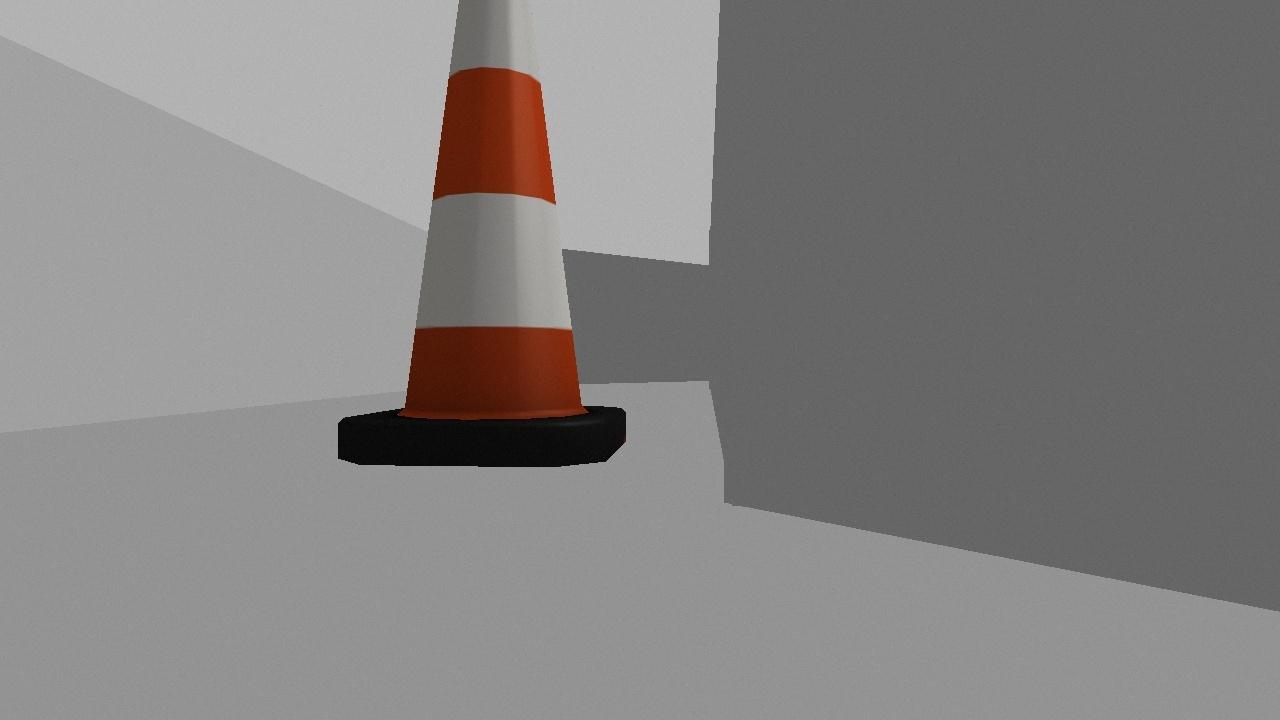cone_barrel: (333, 0, 625, 467)
